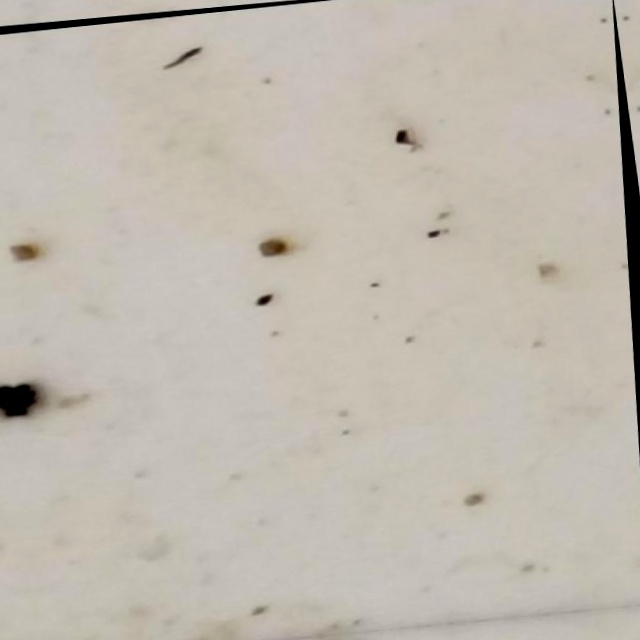varroa: (13, 376, 49, 423)
